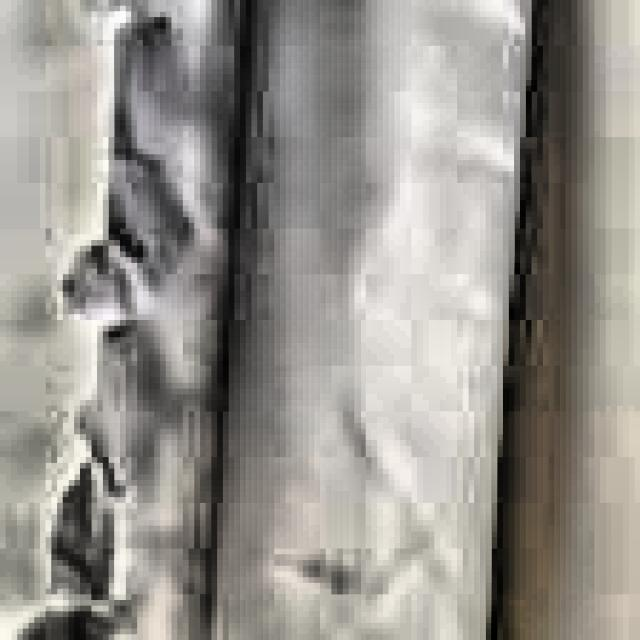paper: (89, 0, 533, 640)
